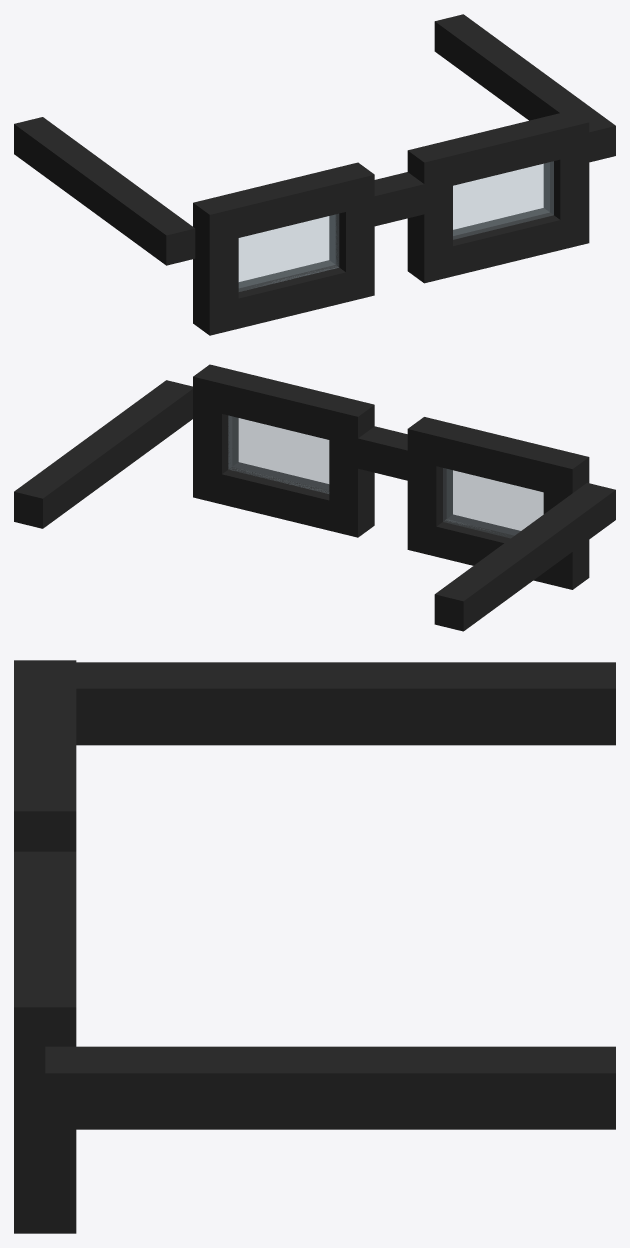
The model's file is glasses.glb.
The picture shows the model from 3 angles, top to bottom: view 1: azimuth 30°, elevation 25°; view 2: azimuth 150°, elevation 25°; view 3: azimuth 270°, elevation 25°; orthographic projection. The views are drawn at different scales.
Visible parts, largest first — view 1: arm, arm.001, rim_top, rim_top.001, rim_bottom, rim_bottom.001, lens.001, lens, rim_left, rim_right.001, rim_left.001, rim_right (+1 smaller); view 2: arm, arm.001, rim_top.001, rim_bottom.001, rim_top, lens.001, lens, rim_bottom, rim_left.001, rim_right, rim_right.001, rim_left (+1 smaller); view 3: arm.001, arm, rim_top.001, rim_right.001, rim_top, rim_bottom.001, rim_right, rim_left.
Part boxes in pixels (x1,y1,x2,y2): arm: [14, 117, 195, 265]; arm.001: [434, 14, 615, 162]; rim_top: [193, 162, 374, 244]; rim_top.001: [407, 110, 589, 192]; rim_bottom: [193, 260, 374, 335]; rim_bottom.001: [407, 208, 589, 283]; lens.001: [453, 161, 553, 239]; lens: [239, 214, 338, 291]; rim_left: [193, 195, 238, 335]; rim_right.001: [543, 114, 589, 249]; rim_left.001: [407, 143, 452, 279]; rim_right: [329, 162, 374, 272]; arm: [434, 483, 615, 631]; arm.001: [14, 380, 192, 528]; rim_top.001: [193, 364, 374, 446]; rim_bottom.001: [193, 462, 374, 537]; rim_top: [407, 417, 570, 497]; lens.001: [228, 416, 328, 493]; lens: [443, 468, 543, 537]; rim_bottom: [407, 514, 589, 588]; rim_left.001: [329, 397, 374, 537]; rim_right: [407, 417, 452, 555]; rim_right.001: [193, 365, 238, 502]; rim_left: [543, 450, 589, 589]; arm.001: [45, 1046, 615, 1129]; arm: [76, 662, 615, 745]; rim_top.001: [14, 856, 76, 1063]; rim_right.001: [14, 981, 76, 1233]; rim_top: [14, 660, 76, 851]; rim_bottom.001: [14, 1177, 76, 1233]; rim_right: [14, 785, 76, 811]; rim_left: [14, 660, 76, 686].
Bounding box in the file's own units: 0.545 × 0.14 × 0.3375.
